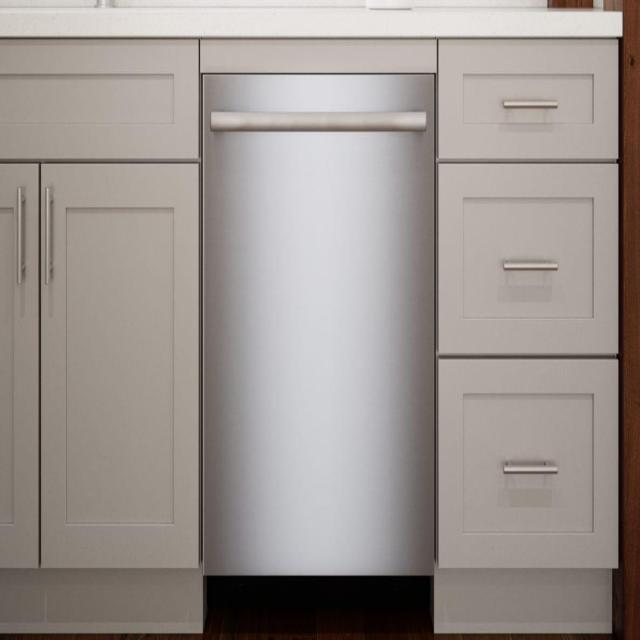dishwasher: (194, 16, 441, 640)
